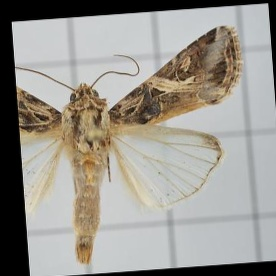Spodoptera litura: (20, 31, 247, 260)
